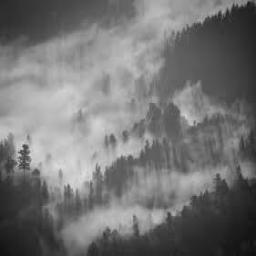Low smoke: (1, 15, 256, 250)
